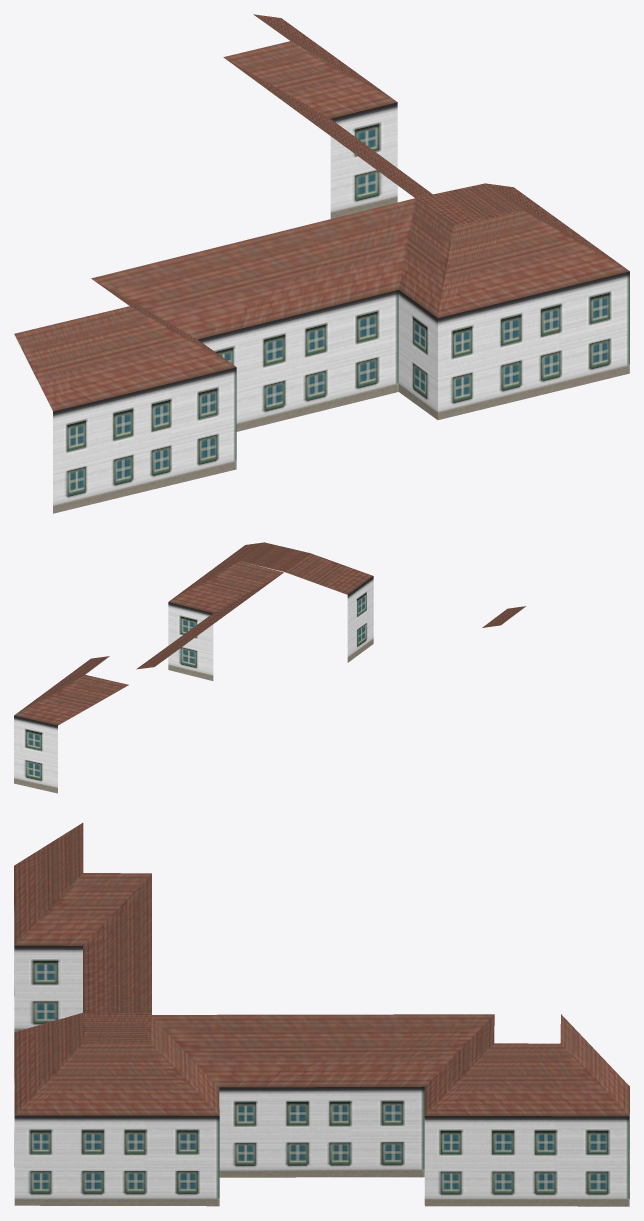
Rendered from AApart02.glb.
3 renders of one model, top to bottom at view 1: azimuth 30°, elevation 25°; view 2: azimuth 150°, elevation 25°; view 3: azimuth 270°, elevation 25°, orthographic. The views are drawn at different scales.
Visible parts, largest first — view 1: AApart02; view 2: AApart02; view 3: AApart02.
Part boxes in pixels (<box>): AApart02: <box>14,14,629,513</box>; AApart02: <box>14,542,526,793</box>; AApart02: <box>14,823,629,1206</box>.
Size of the model in its own units: 7416 by 1882 by 7753.
1 material, 1 textured.
